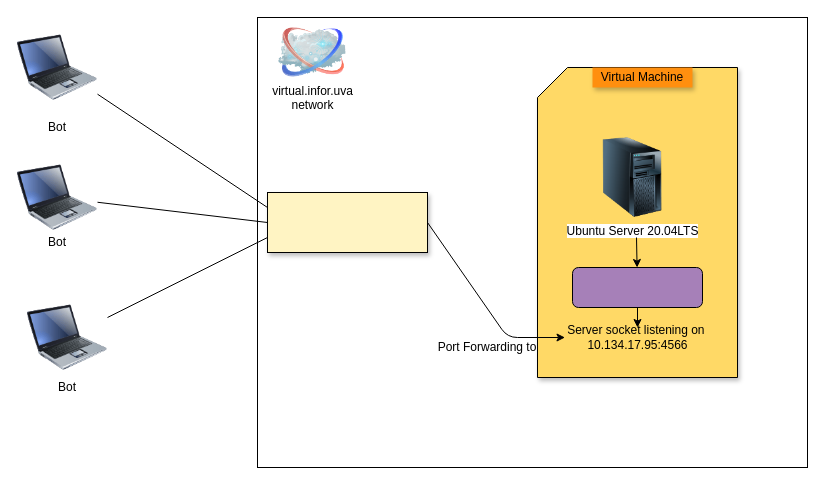
Image size: 825x485. Some labels were removed from this diagram. The centre of each missing label's shape, as x and y in pixels:
"BotCommander Server" belongs at (x=637, y=287).
"virtual.infor.uva.es:65402" belongs at (x=348, y=224).
